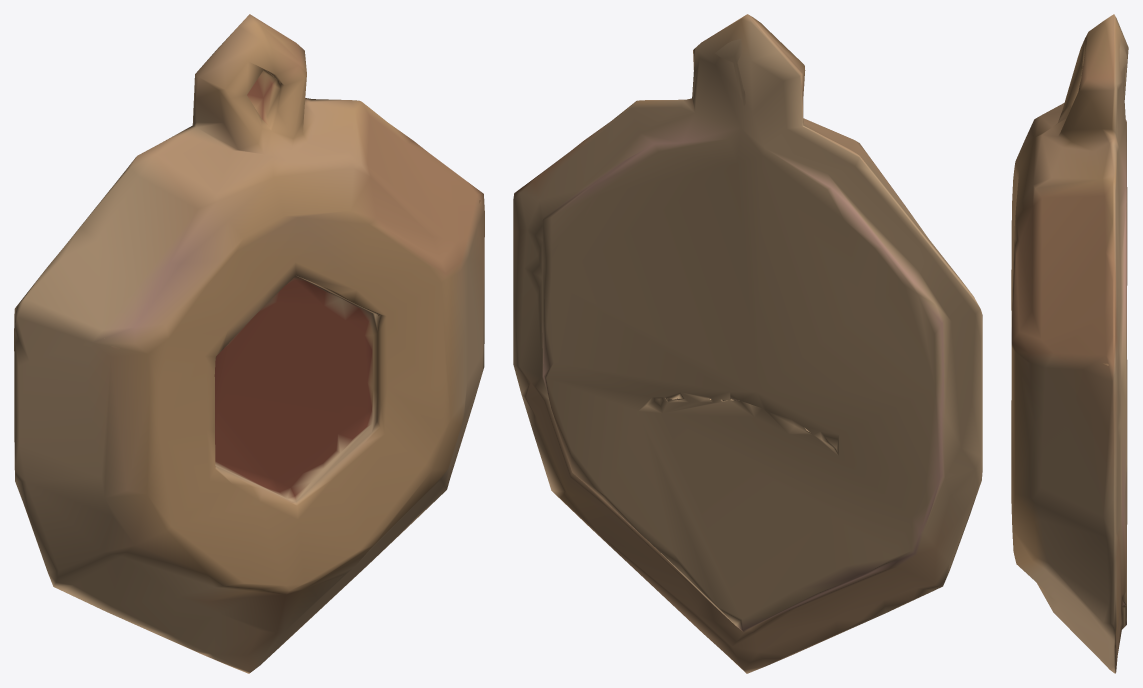
File: gen3d-amulet-lod0.glb
3 views of the same model, side by side, from view 1: azimuth 30°, elevation 25°; view 2: azimuth 150°, elevation 25°; view 3: azimuth 270°, elevation 25° (orthographic).
Parts seen in each view (by area): view 1: part_0; view 2: part_0; view 3: part_0.
Boxes of the visible parts, left/top/right/bottom form: part_0: left=14, top=14, right=484, bottom=673; part_0: left=513, top=14, right=982, bottom=673; part_0: left=1011, top=14, right=1128, bottom=673.
Size of the model in its own units: 0.7454 by 1 by 0.1611.
